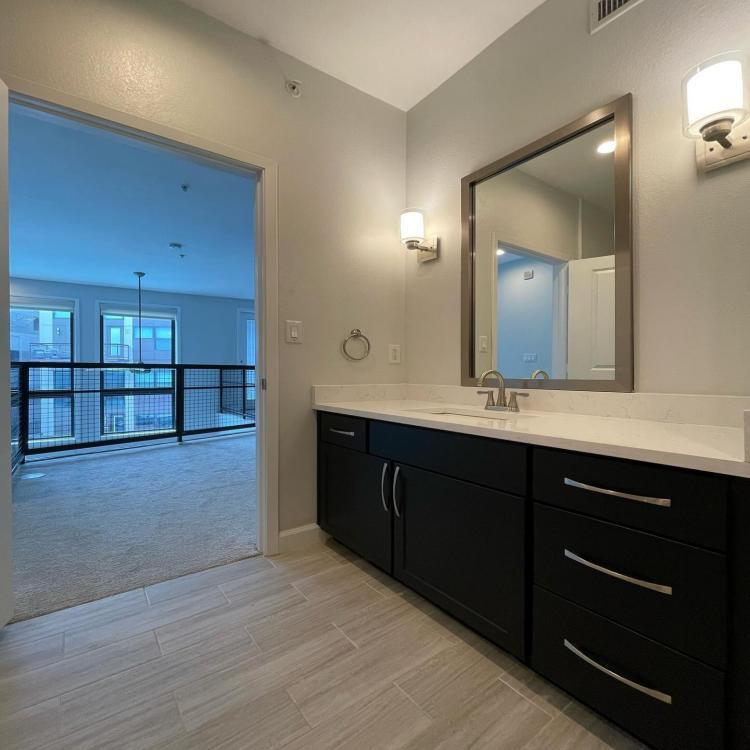OpenDoor: (0, 74, 285, 614)
